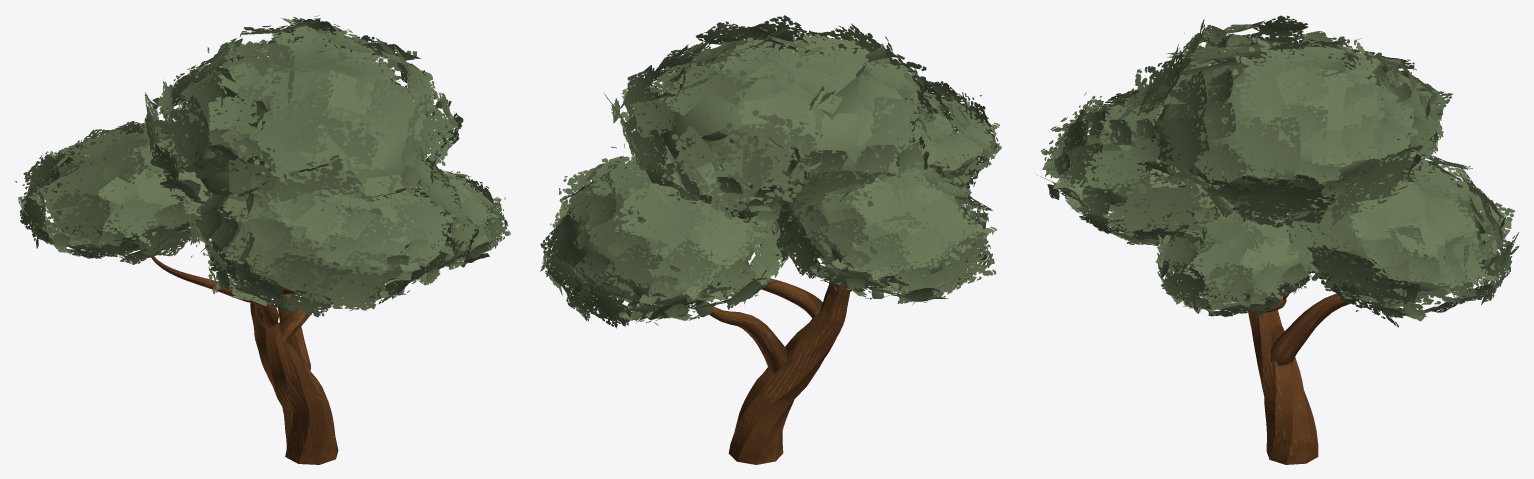
The model's file is cartoon_tree_lowpoly_game_ready.glb.
3 renders of one model, left to right at view 1: azimuth 30°, elevation 25°; view 2: azimuth 150°, elevation 25°; view 3: azimuth 270°, elevation 25°, orthographic. The views are drawn at different scales.
Parts seen in each view (by area): view 1: Fogliesingole4, Fogliesingole8, Fogliesingole5, Albero3_low, Fogliesingole7; view 2: Fogliesingole4, Fogliesingole6, Fogliesingole5, Albero3_low, Fogliesingole8; view 3: Fogliesingole4, Fogliesingole6, Fogliesingole8, Fogliesingole7, Albero3_low, Fogliesingole5.
Part boxes in pixels (bbox=[...]): Fogliesingole4: bbox=[140, 15, 463, 223]; Fogliesingole8: bbox=[182, 158, 480, 317]; Fogliesingole5: bbox=[15, 113, 212, 264]; Albero3_low: bbox=[147, 247, 338, 464]; Fogliesingole7: bbox=[418, 160, 510, 269]; Fogliesingole4: bbox=[603, 15, 941, 234]; Fogliesingole6: bbox=[540, 146, 799, 328]; Fogliesingole5: bbox=[772, 155, 996, 304]; Albero3_low: bbox=[698, 278, 851, 464]; Fogliesingole8: bbox=[891, 75, 1001, 202]; Fogliesingole4: bbox=[1100, 15, 1443, 231]; Fogliesingole6: bbox=[1287, 150, 1519, 327]; Fogliesingole8: bbox=[1037, 86, 1240, 245]; Fogliesingole7: bbox=[1155, 204, 1322, 317]; Albero3_low: bbox=[1248, 272, 1359, 464]; Fogliesingole5: bbox=[1342, 46, 1452, 144].
Bounding box in the file's own units: 11.48 × 11.21 × 12.11.
Materials: 2 (2 with a texture image).
